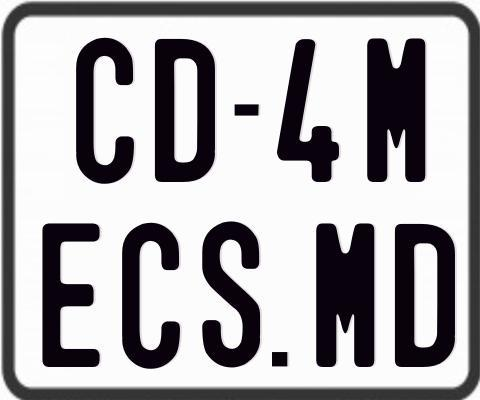4: (277, 37, 341, 185)
C: (119, 220, 183, 371), (74, 37, 137, 188)
D: (152, 36, 217, 184), (394, 222, 458, 369)
E: (42, 222, 106, 366)
M: (365, 35, 426, 180), (316, 223, 374, 371)
S: (199, 221, 259, 371)
